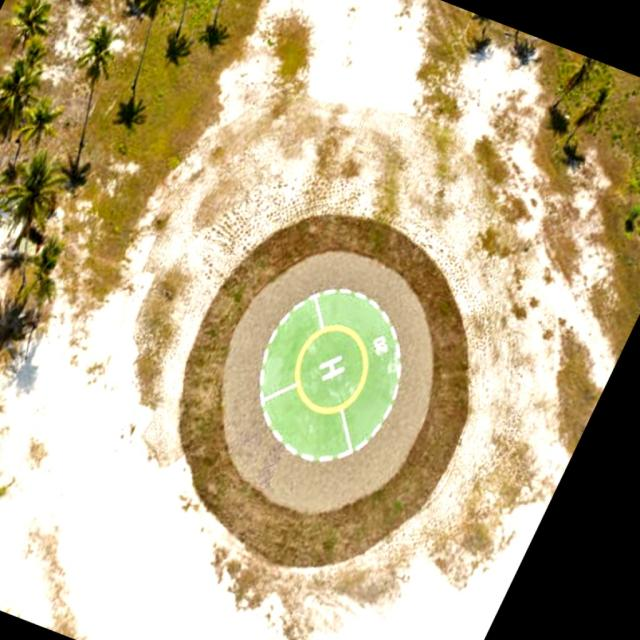helipad: (290, 322, 370, 416)
